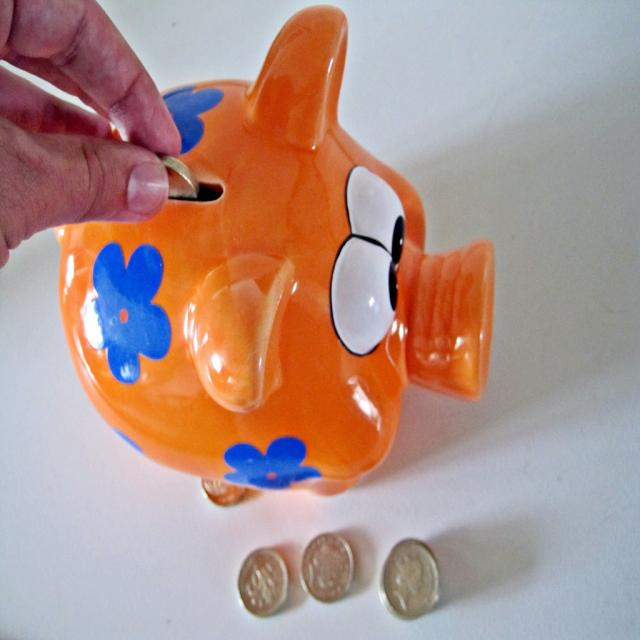Coin: (380, 542, 438, 619), (299, 530, 358, 600), (237, 546, 290, 614), (165, 156, 199, 201)
